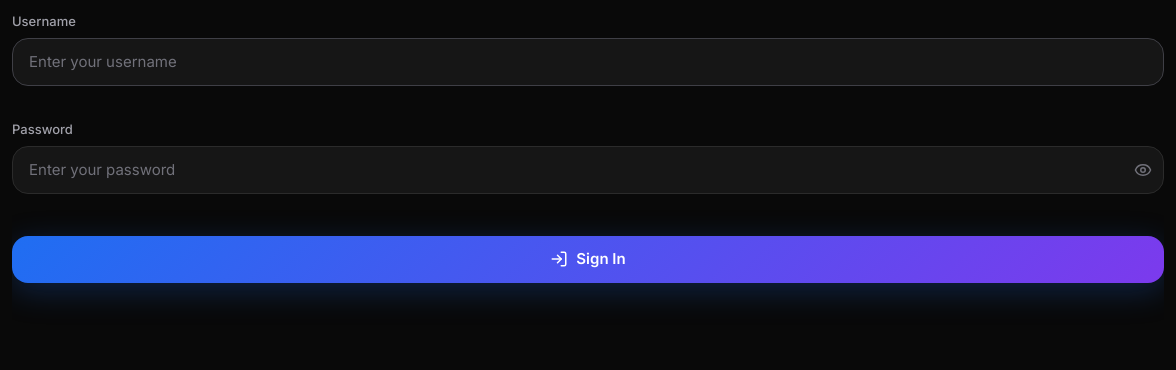
Test: LoginForm › shows error when both fields are empty on submit
Click the button "Sign In" at (588, 259), box x1=12 y1=236 x2=1164 y2=282
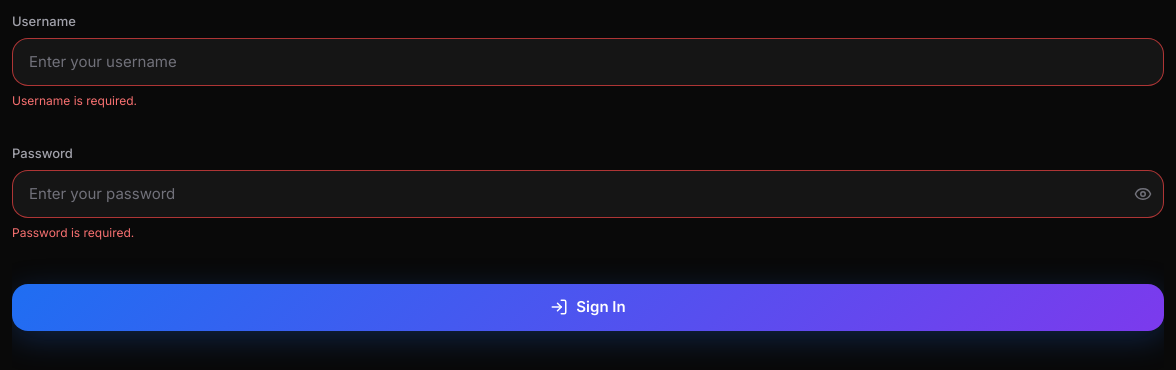
Expected: the number of messages is 2, x1=12 y1=93 x2=137 y2=108; x1=12 y1=225 x2=134 y2=240
